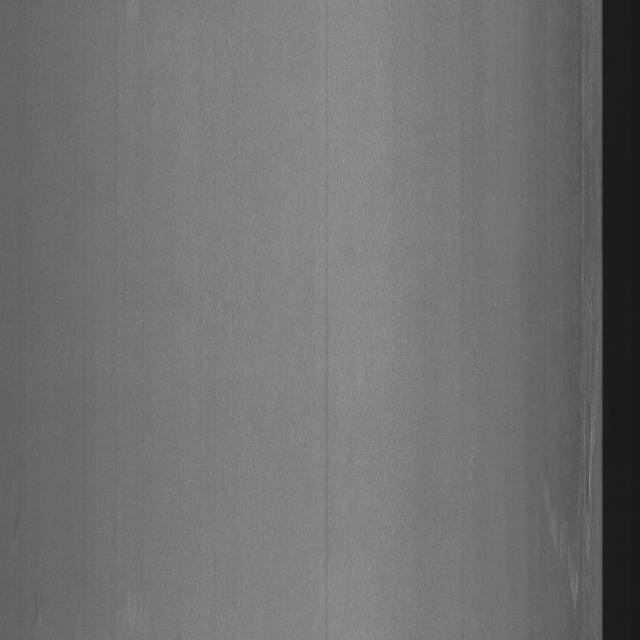inclusion: (542, 359, 599, 612)
